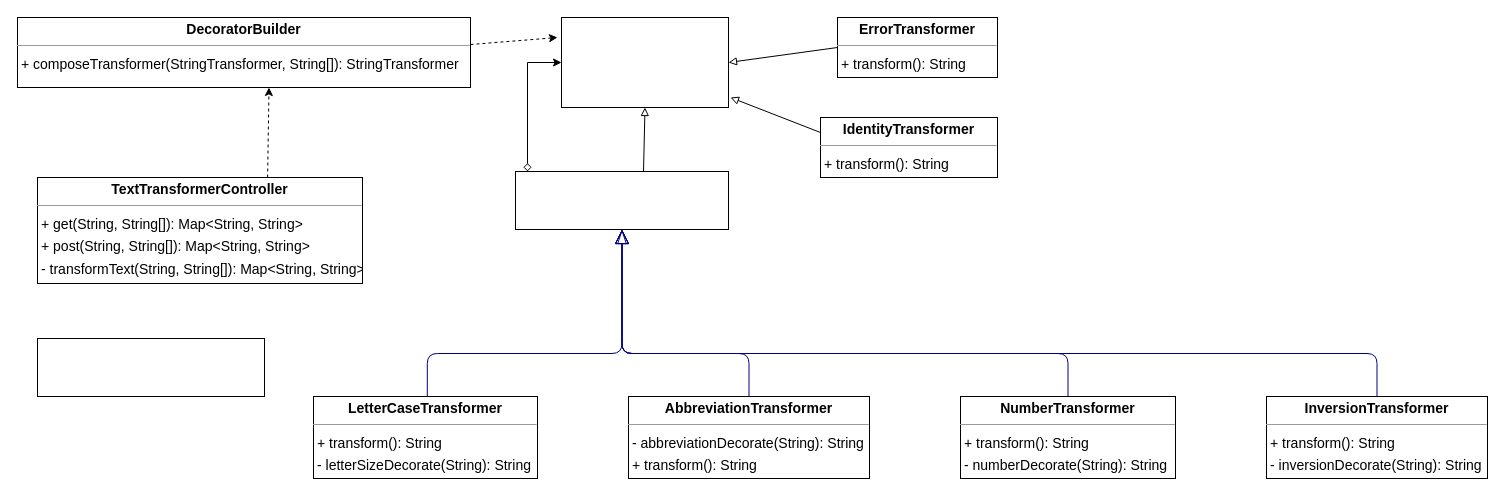
The diagram is 1505 pixels wide and 496 high, and some of its shapes have lost their labels. The box of each missing label's shape, as (x1, y1, x2, y2) in pixels:
<<interface>> StringTransformer + transform(): String: (560, 16, 728, 108)
TextTransformerApplication + main(String[]): void: (36, 338, 264, 396)
TransformationDecorator + transform(): String: (514, 170, 728, 230)
